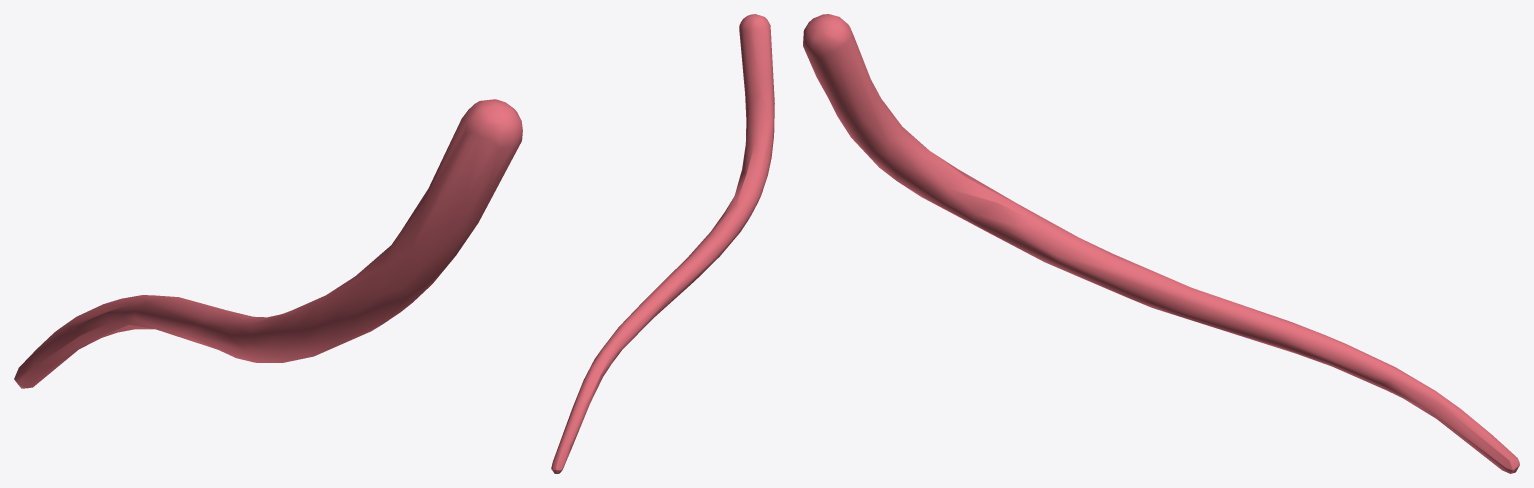
The model's file is fma18810.glb.
3 renders of one model, left to right at view 1: azimuth 30°, elevation 25°; view 2: azimuth 150°, elevation 25°; view 3: azimuth 270°, elevation 25°, orthographic. The views are drawn at different scales.
Visible parts, largest first — view 1: FMA18810; view 2: FMA18810; view 3: FMA18810.
Part boxes in pixels (box(x1,y1,x2,y2)): FMA18810: box(14, 99, 522, 388); FMA18810: box(551, 14, 774, 473); FMA18810: box(803, 14, 1519, 473).
Bounding box in the file's own units: 0.0147 × 0.0654 × 0.0904.
